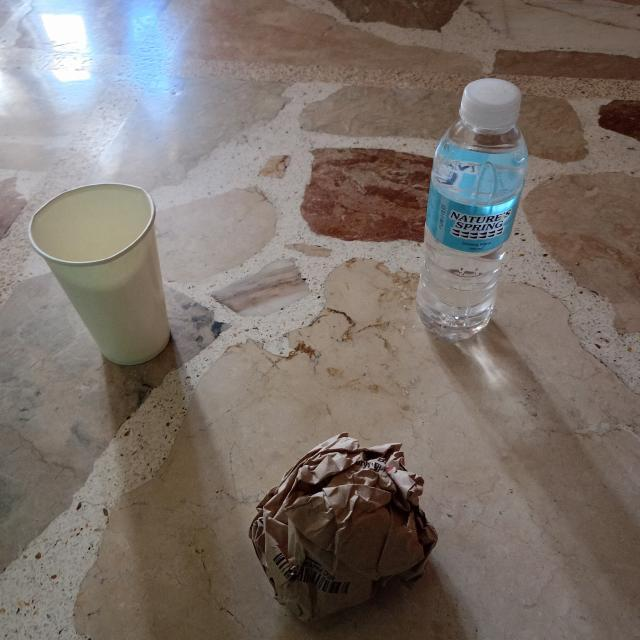recyclable waste: (234, 424, 446, 630), (405, 67, 536, 350), (18, 172, 182, 376)
